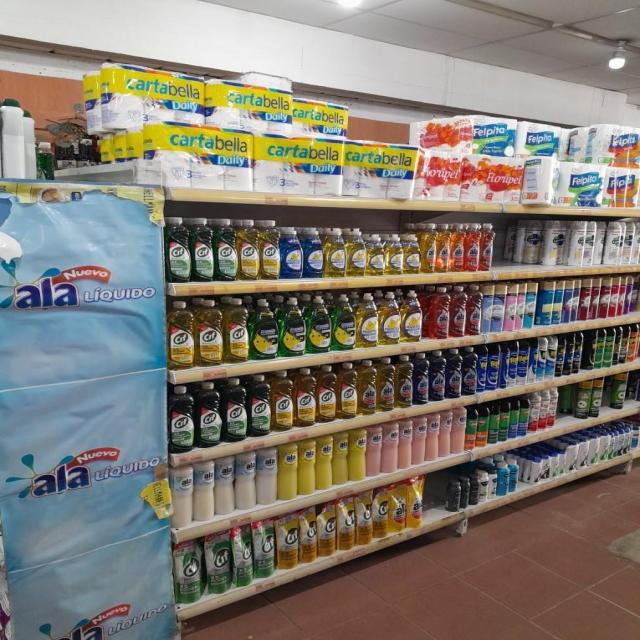ala_conc_amarillo: (358, 359, 377, 415), (377, 356, 395, 412), (396, 354, 412, 409), (421, 222, 436, 274), (436, 223, 450, 273)
ala_conc_azul: (430, 350, 446, 401), (446, 348, 462, 398), (414, 352, 428, 404), (462, 346, 476, 396), (477, 346, 488, 393)
ala_conc_rojo: (426, 286, 450, 339), (451, 285, 466, 337), (465, 223, 480, 272), (468, 284, 482, 336), (480, 222, 494, 271), (450, 223, 464, 272)
ala_crem_amarillo: (278, 442, 298, 501), (299, 438, 315, 497), (349, 428, 366, 482), (316, 434, 332, 490), (333, 431, 348, 486)
ala_crem_blanco: (171, 464, 193, 528), (256, 445, 278, 506), (193, 460, 214, 522), (235, 452, 256, 511), (216, 456, 234, 516)
ala_crem_rosado: (382, 422, 398, 473), (367, 425, 382, 477), (412, 415, 427, 466), (399, 418, 412, 470), (452, 407, 465, 454), (427, 412, 439, 462), (440, 410, 451, 458)
ala_sachet_amarillo: (408, 476, 424, 529), (372, 486, 388, 539), (390, 482, 406, 533), (615, 162, 627, 208)
cif_conc_bot_amarilla: (168, 300, 195, 369), (196, 298, 223, 366), (224, 297, 249, 364), (272, 370, 294, 431), (294, 367, 316, 427), (238, 218, 258, 281), (260, 219, 280, 280), (317, 364, 336, 422), (338, 362, 357, 419)
cif_conc_botella_verde: (168, 384, 196, 452), (196, 381, 222, 447), (166, 216, 190, 283), (223, 377, 247, 442), (192, 217, 214, 282), (215, 218, 237, 282), (249, 374, 271, 436)
cif_conc_sachet_amarillo: (276, 514, 299, 570), (356, 490, 372, 546)
cif_conc_sachet_verde: (174, 538, 202, 604), (204, 532, 230, 596), (253, 518, 274, 580), (232, 525, 252, 587)
magistral_con_amarillo: (356, 292, 379, 348), (402, 289, 424, 343), (324, 227, 346, 278), (380, 291, 400, 345), (346, 228, 366, 277), (367, 232, 384, 276), (385, 233, 402, 275), (404, 231, 420, 275)
magistral_con_azul: (280, 227, 302, 279), (304, 227, 324, 279)
